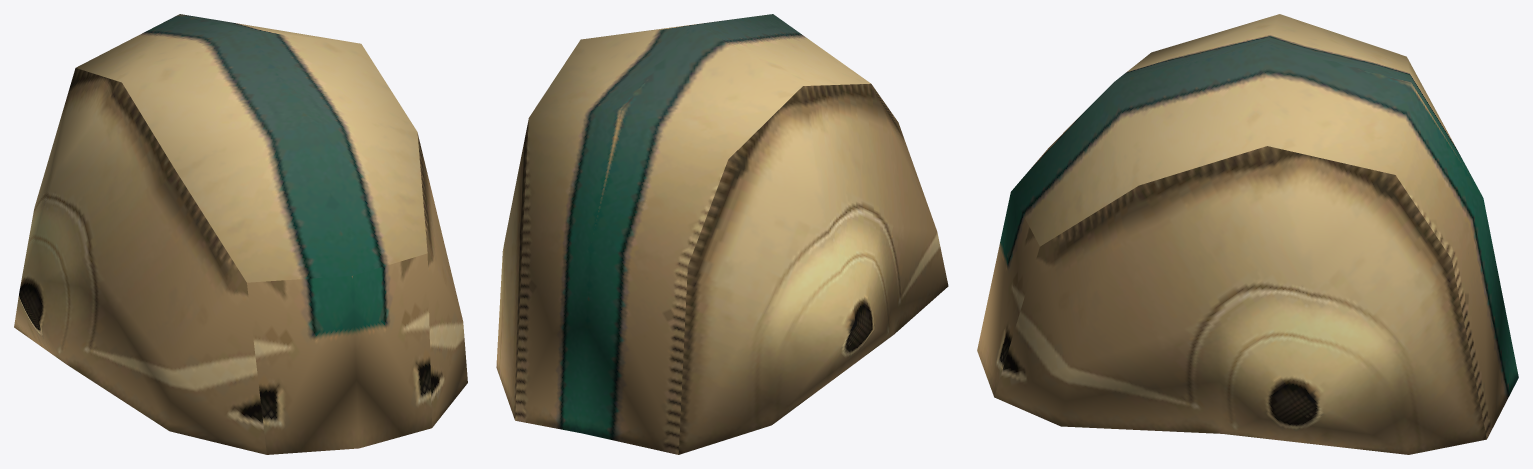
File: Helmet5.glb
The picture shows the model from 3 angles, left to right: view 1: azimuth 30°, elevation 25°; view 2: azimuth 150°, elevation 25°; view 3: azimuth 270°, elevation 25°; orthographic projection. The views are drawn at different scales.
Visible parts, largest first — view 1: Helmet5; view 2: Helmet5; view 3: Helmet5.
Boxes of the visible parts, x1,y1,x2,y2 form: Helmet5: [14, 14, 467, 454]; Helmet5: [496, 14, 948, 454]; Helmet5: [977, 14, 1518, 454].
Size of the model in its own units: 12.59 by 11.15 by 15.37.
Materials: 1 (1 with a texture image).
